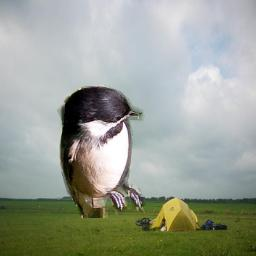Swallow: (57, 82, 148, 218)
